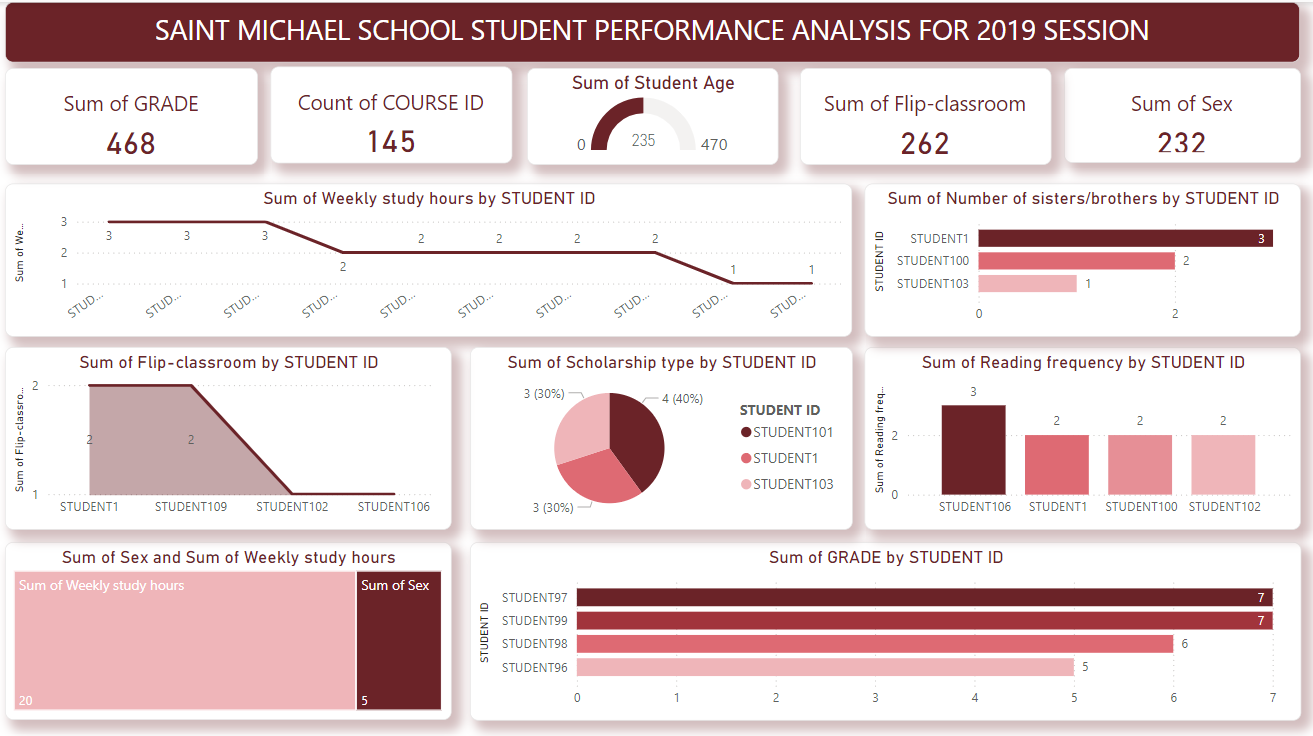

The dashboard page shown, as its layout file describes it:
{"tool":"powerbi","page":{"name":"Page 1","canvas":[1280,720],"ordinal":0},"visuals":[{"type":"textbox","box":[9.4,0,1256.7,58.6],"z":0},{"type":"lineChart","fields":{"Category":["StudentsPerformance_with_header.STUDENT ID"],"Y":["Sum(StudentsPerformance_with_header.Weekly study hours)"]},"box":[9.1,175.6,822.2,148.4],"z":1000},{"type":"treemap","fields":{"Values":["Sum(StudentsPerformance_with_header.Sex)","Sum(StudentsPerformance_with_header.Weekly study hours)"]},"box":[9.1,523.9,433.1,172.6],"z":2000},{"type":"barChart","fields":{"Category":["StudentsPerformance_with_header.STUDENT ID"],"Y":["Sum(StudentsPerformance_with_header.GRADE)"]},"box":[460,524,806.4,173.2],"z":3000},{"type":"pieChart","fields":{"Category":["StudentsPerformance_with_header.STUDENT ID"],"Y":["Sum(StudentsPerformance_with_header.Scholarship type)"]},"box":[460,334.8,371.2,177.6],"z":4000},{"type":"stackedAreaChart","fields":{"Category":["StudentsPerformance_with_header.STUDENT ID"],"Y":["Sum(StudentsPerformance_with_header.Flip-classroom)"]},"box":[9.1,334.6,433.1,177.2],"z":5000},{"type":"columnChart","fields":{"Category":["StudentsPerformance_with_header.STUDENT ID"],"Y":["Sum(StudentsPerformance_with_header.Reading frequency)"]},"box":[842.8,334.8,423.6,177.6],"z":6000},{"type":"clusteredBarChart","fields":{"Category":["StudentsPerformance_with_header.STUDENT ID"],"Y":["Sum(StudentsPerformance_with_header.Number of sisters/brothers)"]},"box":[842.8,176.1,423.6,148.5],"z":7000},{"type":"cardVisual","fields":{"Data":["Sum(StudentsPerformance_with_header.GRADE)"]},"box":[9.1,63.6,245.3,93.9],"z":8000},{"type":"cardVisual","fields":{"Data":["CountNonNull(StudentsPerformance_with_header.COURSE ID)"]},"box":[266.5,62.1,234.7,93.9],"z":9000},{"type":"gauge","fields":{"Y":["Sum(StudentsPerformance_with_header.Student Age)"]},"box":[514.8,63.6,243.8,93.9],"z":10000},{"type":"cardVisual","fields":{"Data":["Sum(StudentsPerformance_with_header.Sex)"]},"box":[1036.4,64,230,91.7],"z":11000},{"type":"cardVisual","fields":{"Data":["Sum(StudentsPerformance_with_header.Flip-classroom)"]},"box":[779.8,63.6,243.8,93.9],"z":12000}]}

Visuals, with their boxes in screenshot pixels (x1, y1, x2, y2), scaled from the page's 1280x720 canvas onto the 1313x736 screenshot:
textbox: BBox(10, 0, 1299, 60)
lineChart - StudentsPerformance_with_header.STUDENT ID x Sum(StudentsPerformance_with_header.Weekly study hours): BBox(9, 180, 853, 331)
treemap - Sum(StudentsPerformance_with_header.Sex) x Sum(StudentsPerformance_with_header.Weekly study hours): BBox(9, 536, 454, 712)
barChart - StudentsPerformance_with_header.STUDENT ID x Sum(StudentsPerformance_with_header.GRADE): BBox(472, 536, 1299, 713)
pieChart - StudentsPerformance_with_header.STUDENT ID x Sum(StudentsPerformance_with_header.Scholarship type): BBox(472, 342, 853, 524)
stackedAreaChart - StudentsPerformance_with_header.STUDENT ID x Sum(StudentsPerformance_with_header.Flip-classroom): BBox(9, 342, 454, 523)
columnChart - StudentsPerformance_with_header.STUDENT ID x Sum(StudentsPerformance_with_header.Reading frequency): BBox(865, 342, 1299, 524)
clusteredBarChart - StudentsPerformance_with_header.STUDENT ID x Sum(StudentsPerformance_with_header.Number of sisters/brothers): BBox(865, 180, 1299, 332)
cardVisual - Sum(StudentsPerformance_with_header.GRADE): BBox(9, 65, 261, 161)
cardVisual - CountNonNull(StudentsPerformance_with_header.COURSE ID): BBox(273, 63, 514, 159)
gauge - Sum(StudentsPerformance_with_header.Student Age): BBox(528, 65, 778, 161)
cardVisual - Sum(StudentsPerformance_with_header.Sex): BBox(1063, 65, 1299, 159)
cardVisual - Sum(StudentsPerformance_with_header.Flip-classroom): BBox(800, 65, 1050, 161)
